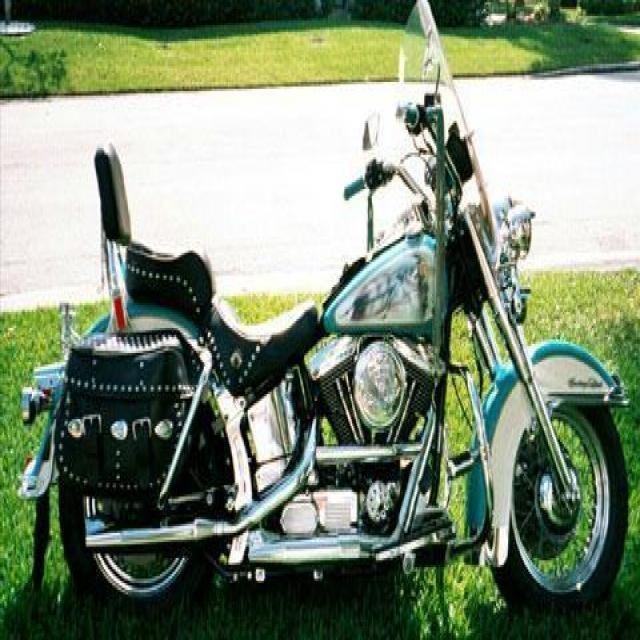Motorcycle: (22, 35, 630, 628)
